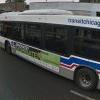Bus: (1, 8, 100, 87)
